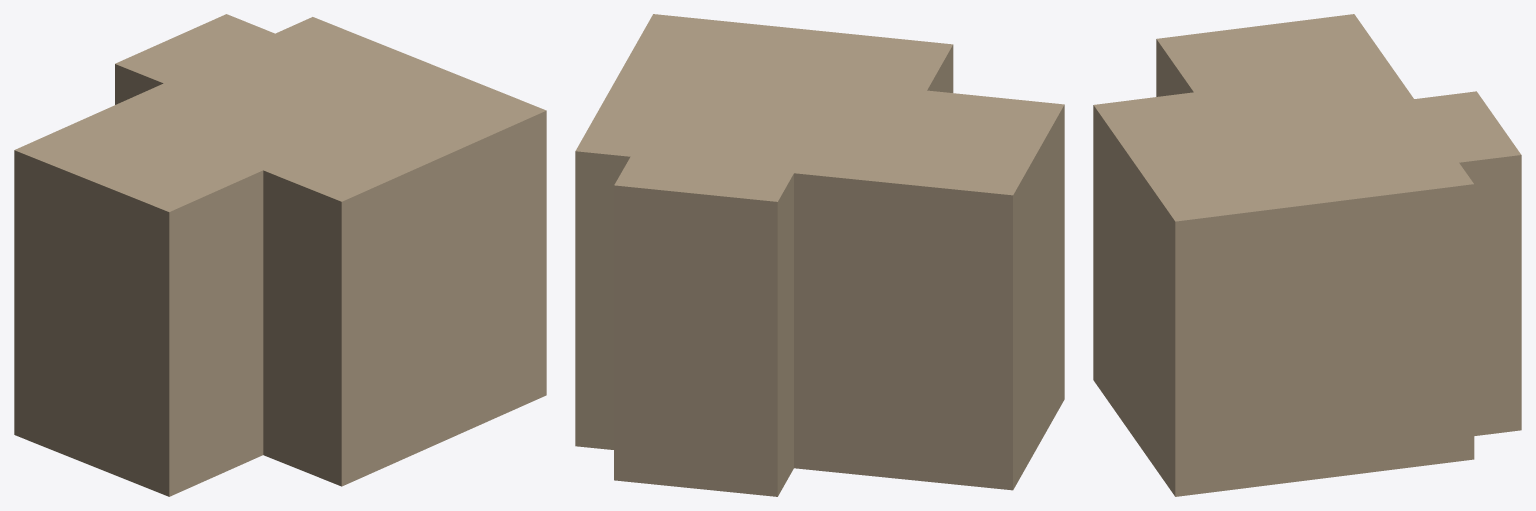
Rendered from bld_107716091.dae.
3 renders of one model, left to right at view 1: azimuth 30°, elevation 25°; view 2: azimuth 150°, elevation 25°; view 3: azimuth 270°, elevation 25°, orthographic. The views are drawn at different scales.
Parts seen in each view (by area): view 1: bld_107716091; view 2: bld_107716091; view 3: bld_107716091.
Boxes of the visible parts, x1,y1,x2,y2 form: bld_107716091: (14, 14, 546, 496); bld_107716091: (575, 14, 1064, 496); bld_107716091: (1093, 14, 1521, 496).
Size of the model in its own units: 12.93 by 11.27 by 8.
